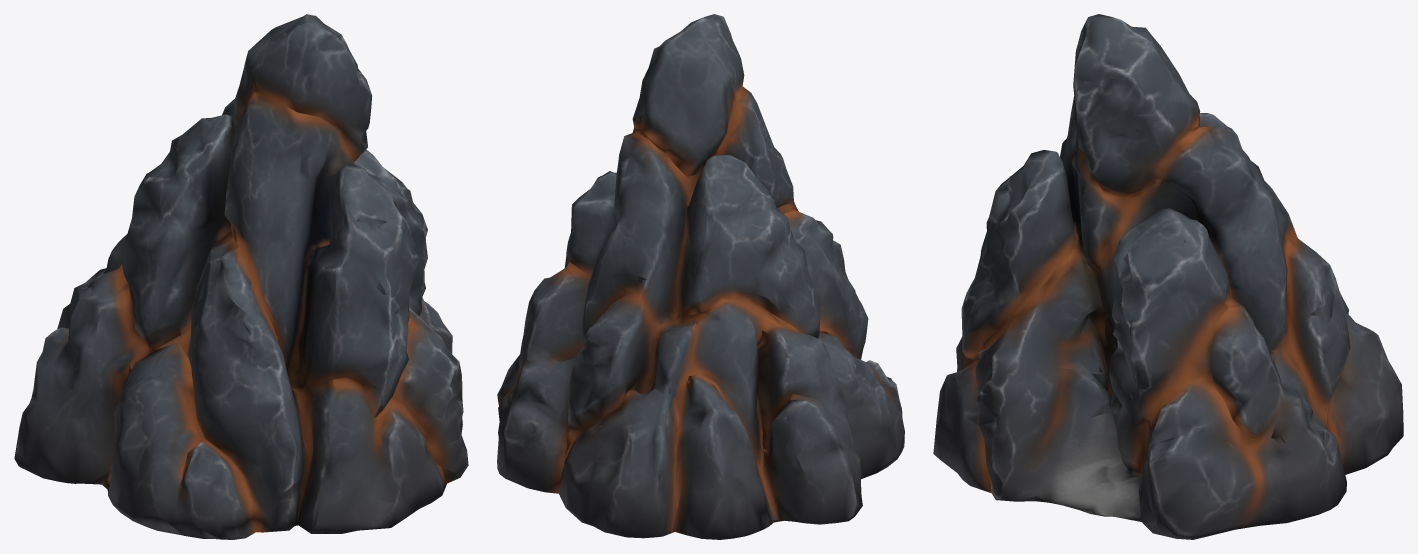
The picture shows the model from 3 angles, left to right: view 1: azimuth 30°, elevation 25°; view 2: azimuth 150°, elevation 25°; view 3: azimuth 270°, elevation 25°; orthographic projection. The views are drawn at different scales.
Visible parts, largest first — view 1: repaired; view 2: repaired; view 3: repaired.
Part boxes in pixels (x1,y1,x2,y2): repaired: (14,14,468,539); repaired: (497,14,904,539); repaired: (933,14,1403,539).
Bounding box in the file's own units: 0.9543 × 1 × 0.9639.
1 material, 1 textured.
